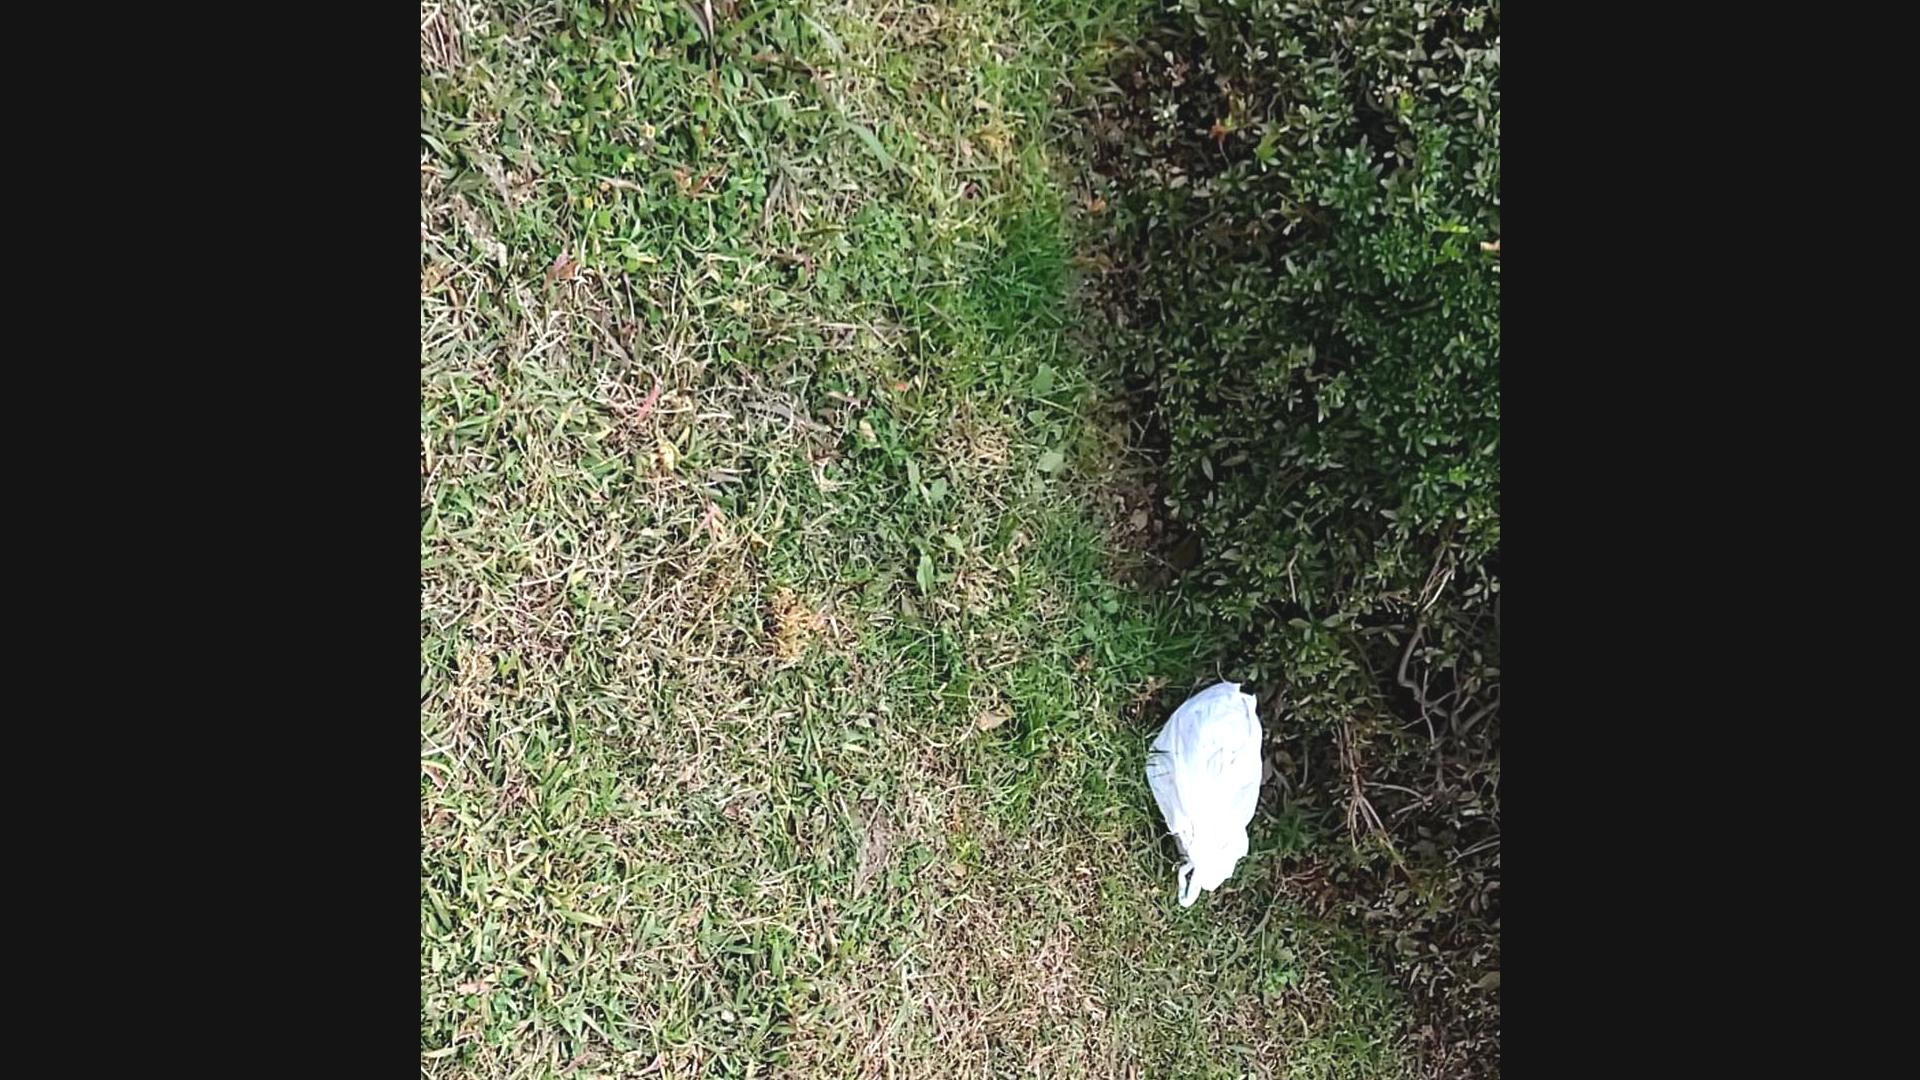white_bag: (1131, 663, 1278, 916)
